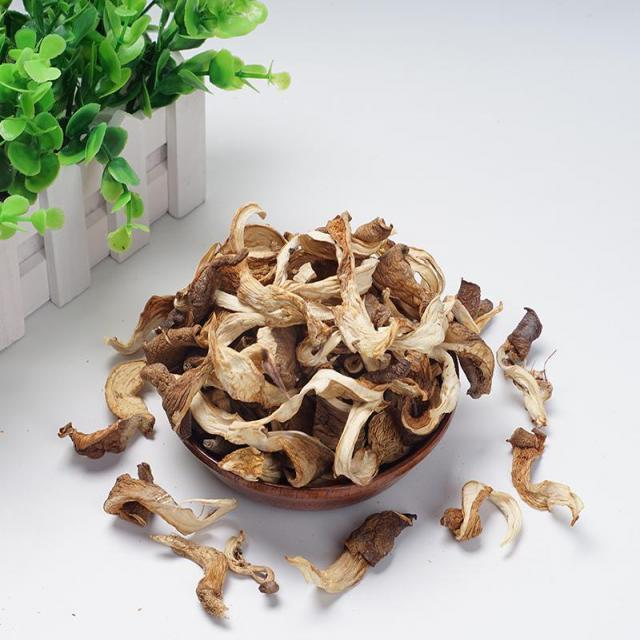Hypsizygus marmoreus: (154, 205, 506, 490), (155, 529, 279, 621), (290, 509, 418, 591), (107, 458, 239, 534), (64, 363, 156, 459), (510, 428, 581, 525), (500, 308, 556, 430), (445, 480, 518, 549), (110, 296, 170, 355)
